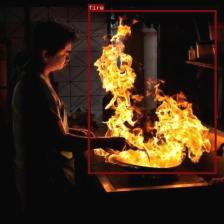fire: (87, 10, 216, 174)
